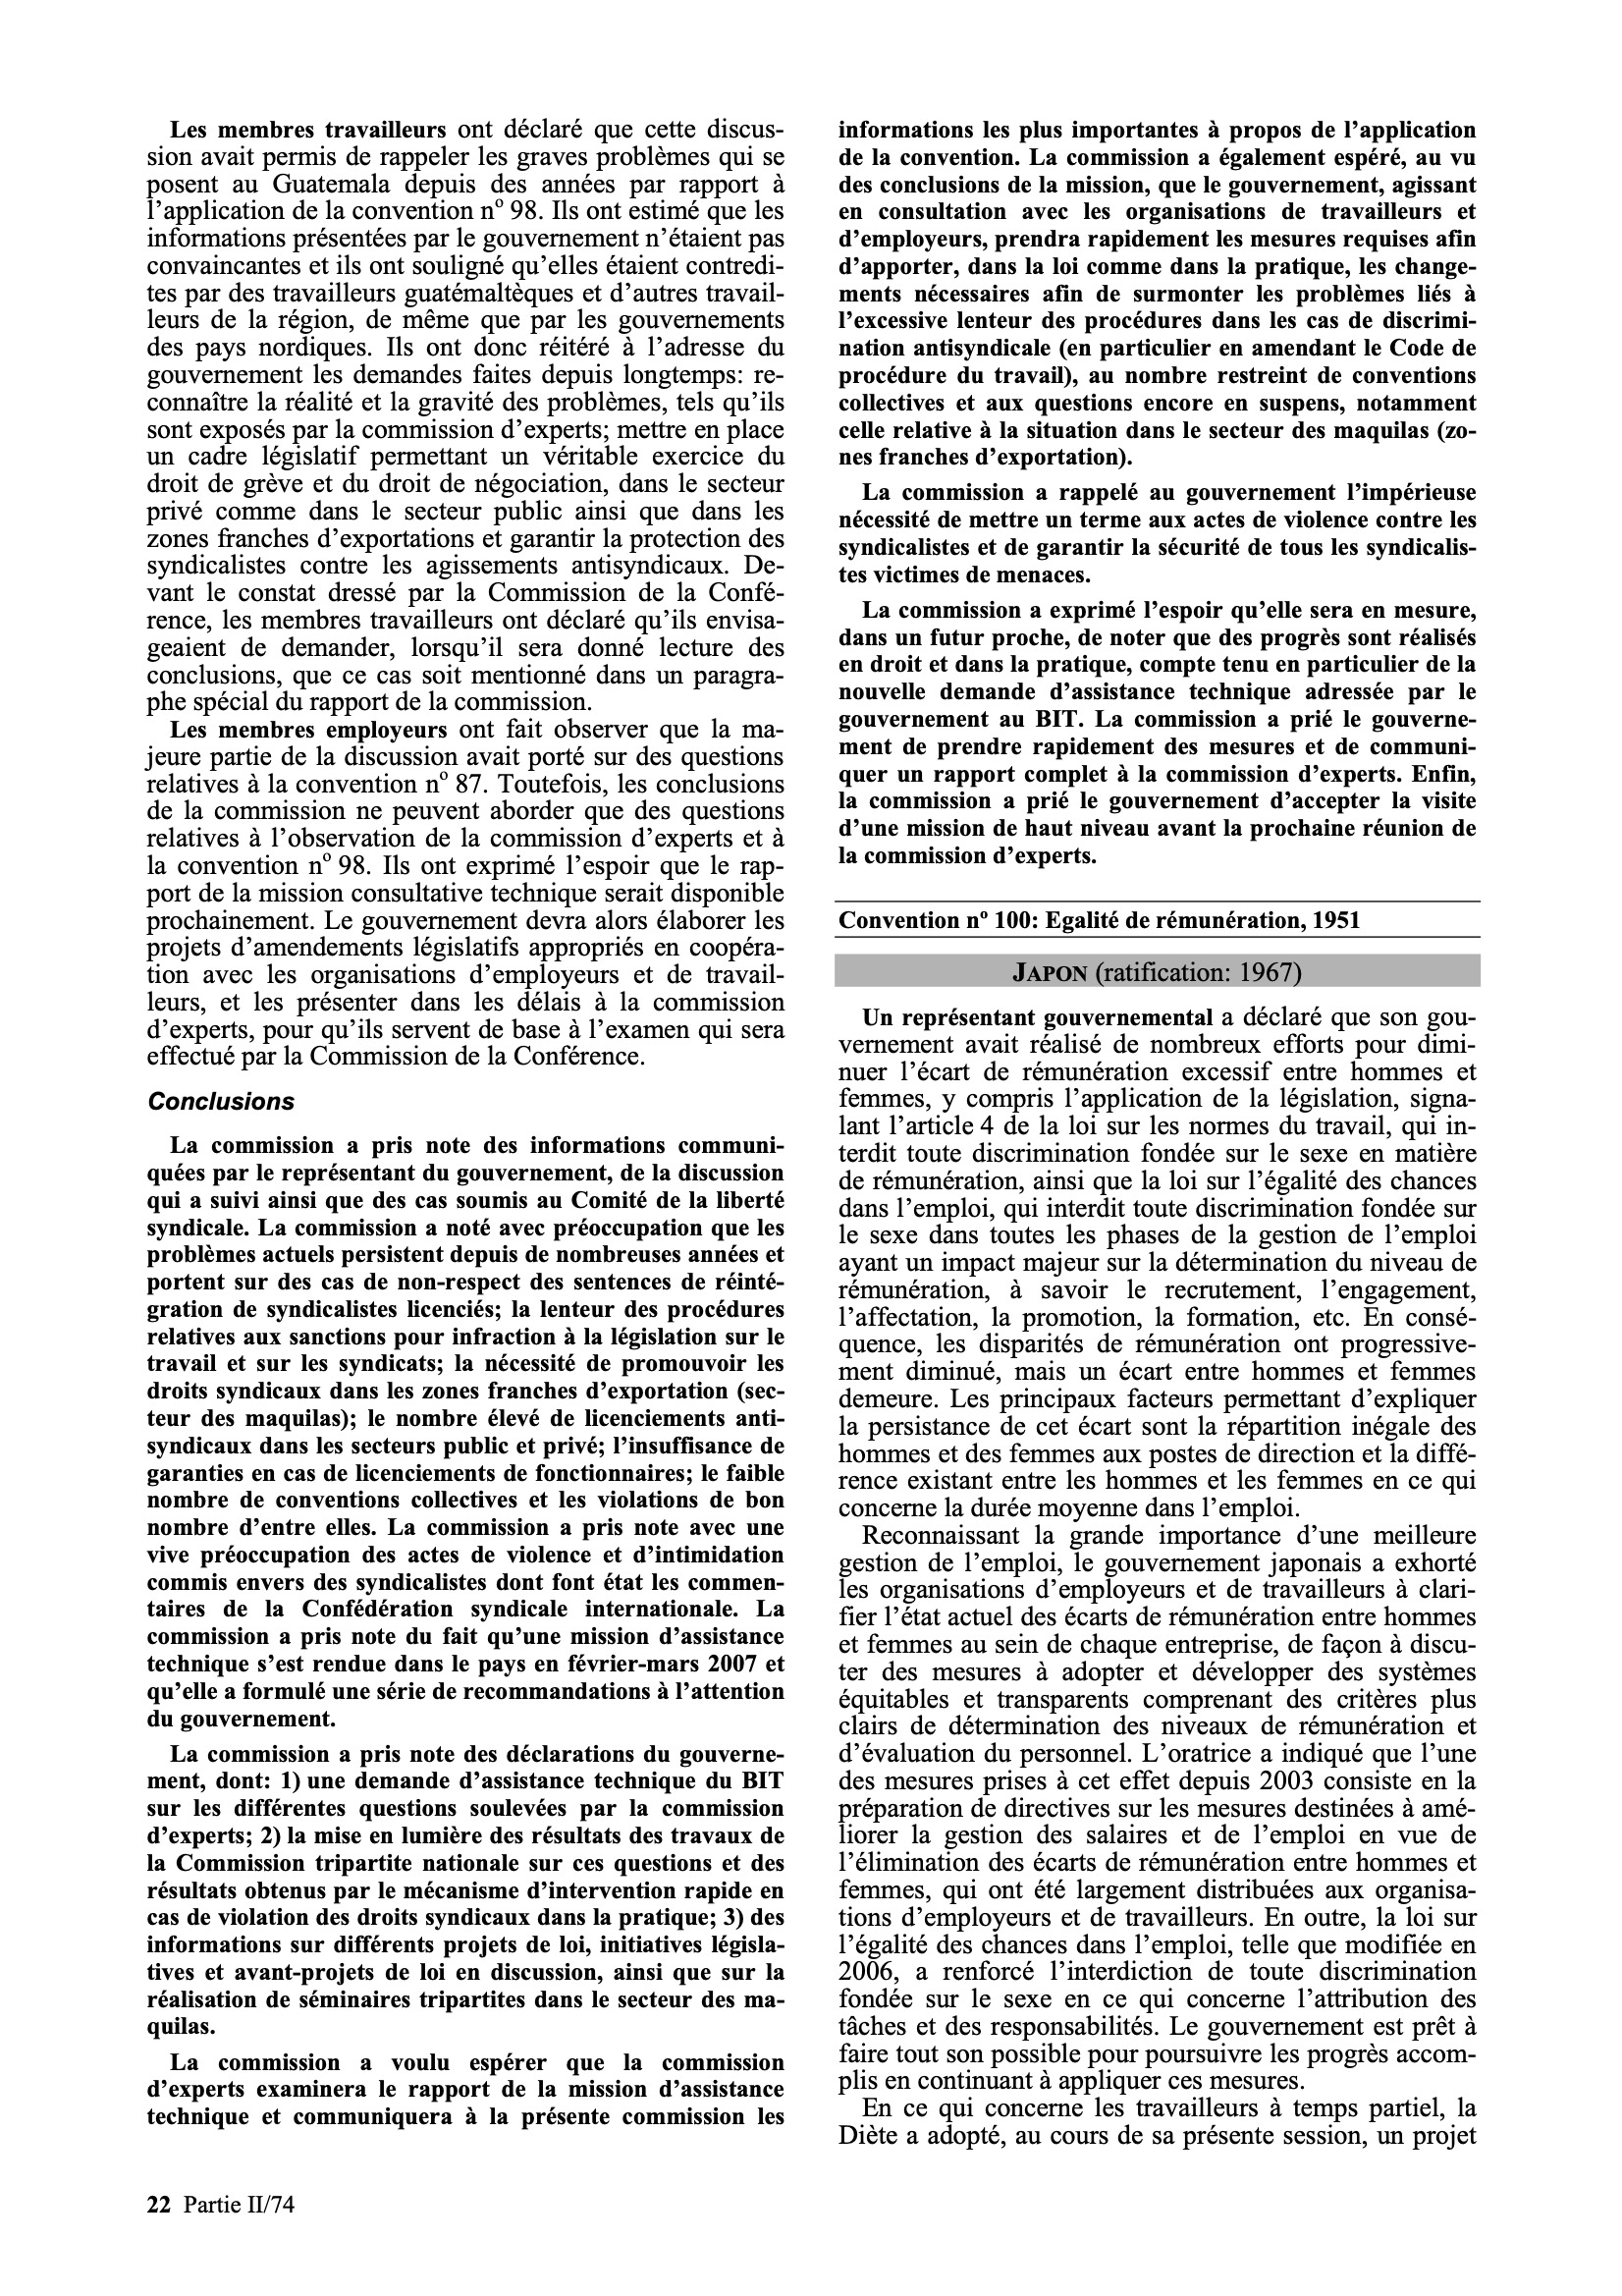MainZone-Continued: (831, 111, 1487, 473)
MainZone-Head: (838, 902, 1372, 937), (1003, 954, 1303, 988), (142, 1082, 301, 1121)
MainZone-P: (142, 110, 794, 715), (142, 1127, 793, 1732), (833, 1517, 1487, 2095), (833, 1001, 1485, 1520), (139, 717, 792, 1072), (141, 1740, 793, 2040), (832, 594, 1484, 873), (832, 478, 1484, 591), (138, 2047, 793, 2139), (831, 2094, 1484, 2156)
TitlePageZone: (138, 2180, 305, 2231)
